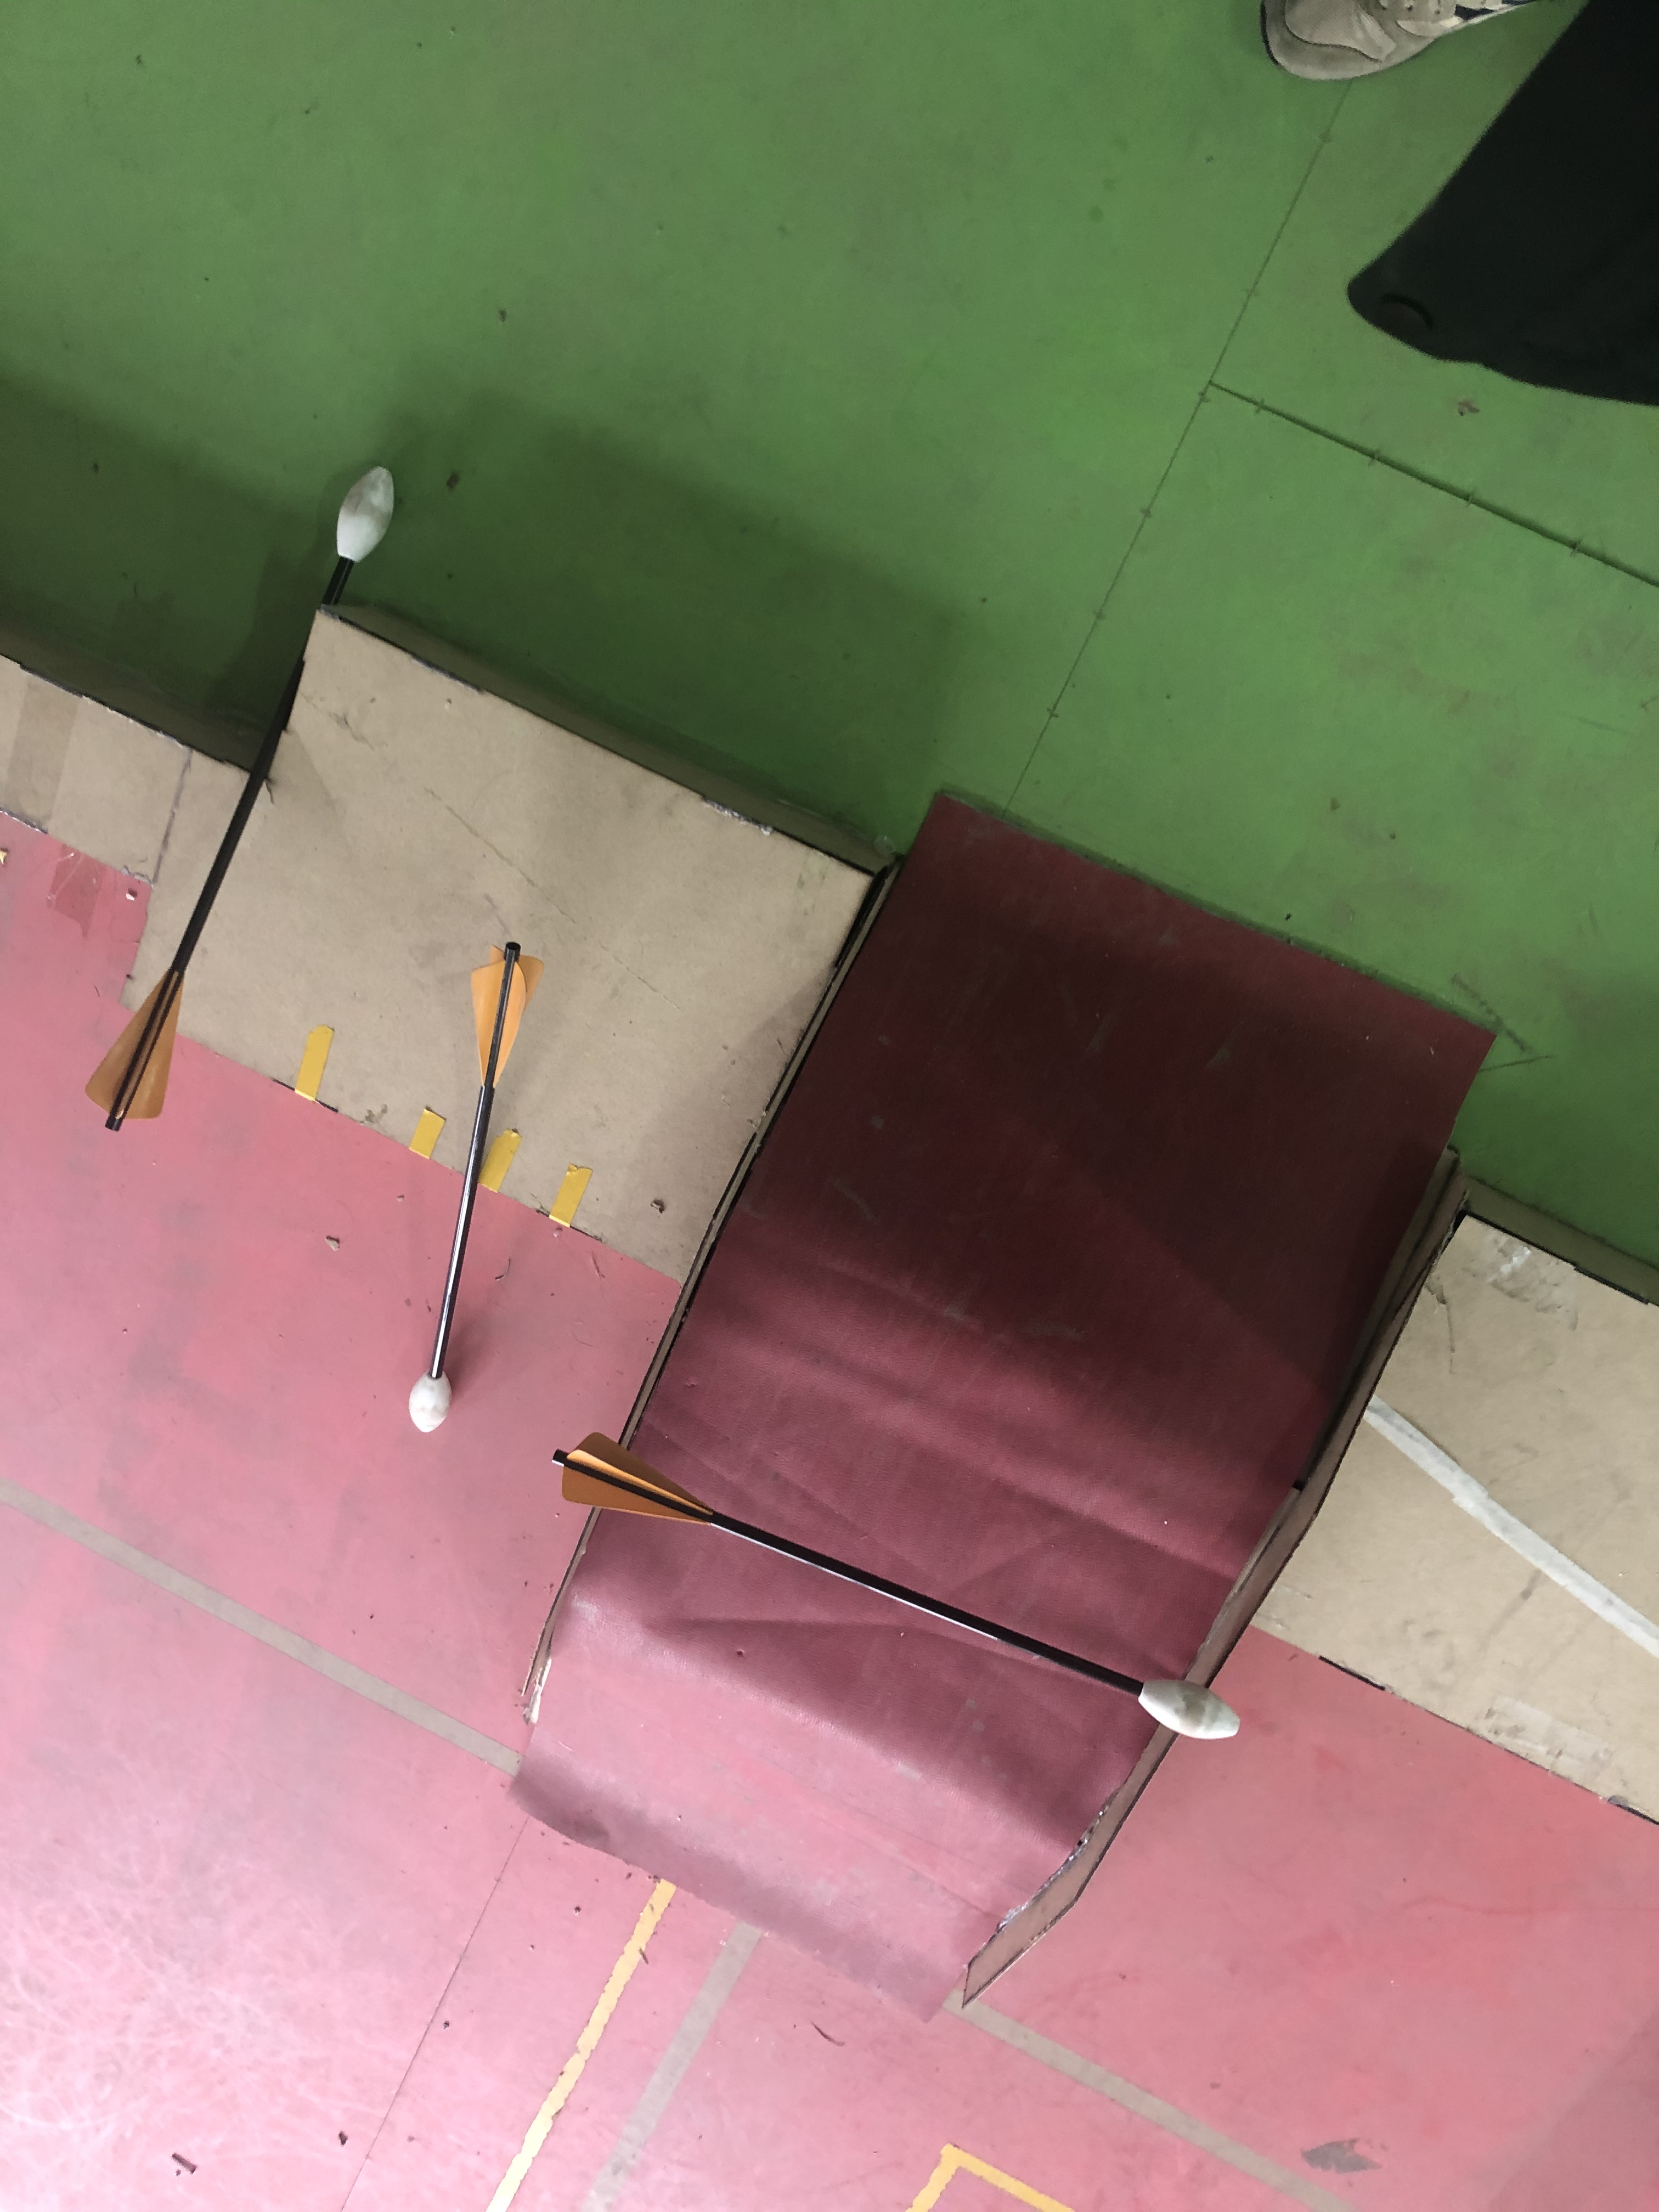arrow: (542, 1430, 1239, 1740), (84, 462, 396, 1127), (403, 941, 535, 1433)
arrowFront: (1131, 1669, 1243, 1738), (326, 462, 397, 570), (406, 1369, 455, 1432)
